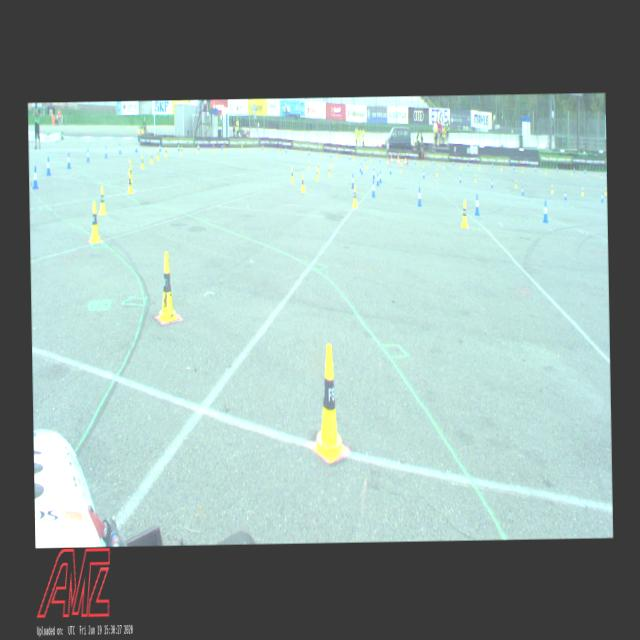blue_cone: (542, 200, 548, 222), (32, 166, 38, 188), (474, 194, 479, 216), (46, 155, 51, 175), (417, 187, 421, 206), (371, 180, 375, 197), (66, 152, 70, 168), (351, 173, 354, 188), (86, 148, 89, 162), (104, 146, 107, 158), (458, 174, 461, 183), (376, 173, 378, 185), (379, 170, 381, 182), (372, 167, 374, 178), (564, 190, 566, 200), (118, 144, 120, 154), (159, 142, 161, 152), (601, 193, 603, 202), (135, 142, 137, 151), (490, 179, 492, 188), (422, 169, 424, 178), (522, 186, 524, 195), (389, 165, 391, 174), (360, 165, 362, 174), (221, 142, 223, 150), (178, 144, 180, 150), (573, 166, 575, 172), (584, 168, 586, 174), (556, 166, 558, 172), (284, 146, 286, 152), (198, 143, 199, 150), (379, 156, 380, 162), (308, 148, 309, 154), (330, 152, 331, 158), (414, 158, 415, 164), (393, 157, 394, 162), (452, 160, 453, 165), (513, 164, 514, 169), (348, 154, 349, 159), (433, 160, 434, 164), (535, 166, 536, 170), (365, 156, 366, 160), (360, 162, 360, 171), (492, 162, 492, 168), (262, 144, 262, 150), (468, 162, 468, 166)
large_orange_cone: (389, 152, 392, 162), (404, 154, 406, 165), (396, 154, 398, 164)
yellow_cone: (310, 344, 345, 462), (156, 252, 178, 322), (88, 201, 100, 242), (98, 186, 106, 214), (460, 199, 467, 227), (352, 184, 357, 207), (127, 174, 132, 194), (300, 174, 304, 192), (128, 164, 132, 182), (128, 158, 132, 175), (290, 166, 294, 182), (140, 155, 144, 168), (156, 149, 160, 160), (315, 167, 318, 180), (328, 165, 331, 177), (164, 146, 167, 156), (150, 151, 152, 163), (212, 144, 215, 152), (317, 161, 319, 172), (459, 162, 462, 169), (196, 144, 198, 154), (550, 184, 552, 193), (514, 179, 516, 188), (180, 145, 182, 154), (582, 187, 584, 196), (604, 186, 606, 195), (436, 168, 438, 176), (308, 160, 310, 168), (474, 174, 476, 182), (366, 160, 368, 168), (331, 158, 333, 166), (386, 156, 388, 164), (223, 143, 225, 151), (319, 150, 321, 158), (478, 162, 480, 169), (241, 144, 243, 151), (570, 168, 572, 174), (544, 168, 546, 174), (600, 172, 602, 178), (300, 149, 302, 155), (400, 164, 401, 172), (422, 160, 423, 167), (263, 145, 264, 152), (443, 162, 444, 168), (352, 154, 353, 160), (336, 152, 337, 158), (501, 164, 502, 170), (401, 158, 402, 164), (522, 166, 522, 172), (370, 154, 370, 162), (280, 146, 280, 153)
